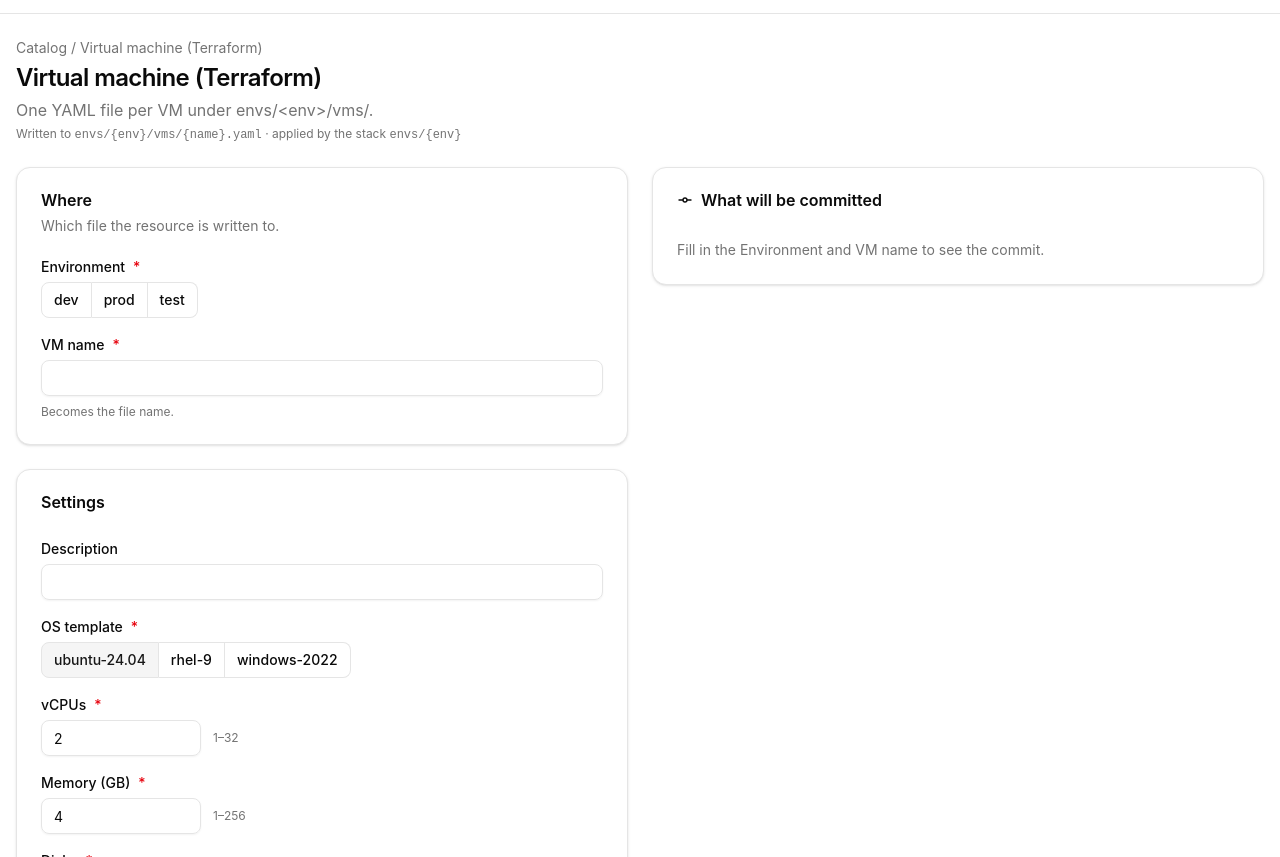
it: errors show on their fields: checked here as you type, and by the server's plan
The image size is (1280, 857).
Type "Bad_Name" into the field labelled "VM name *" at (322, 378), box 41,360 -> 603,396
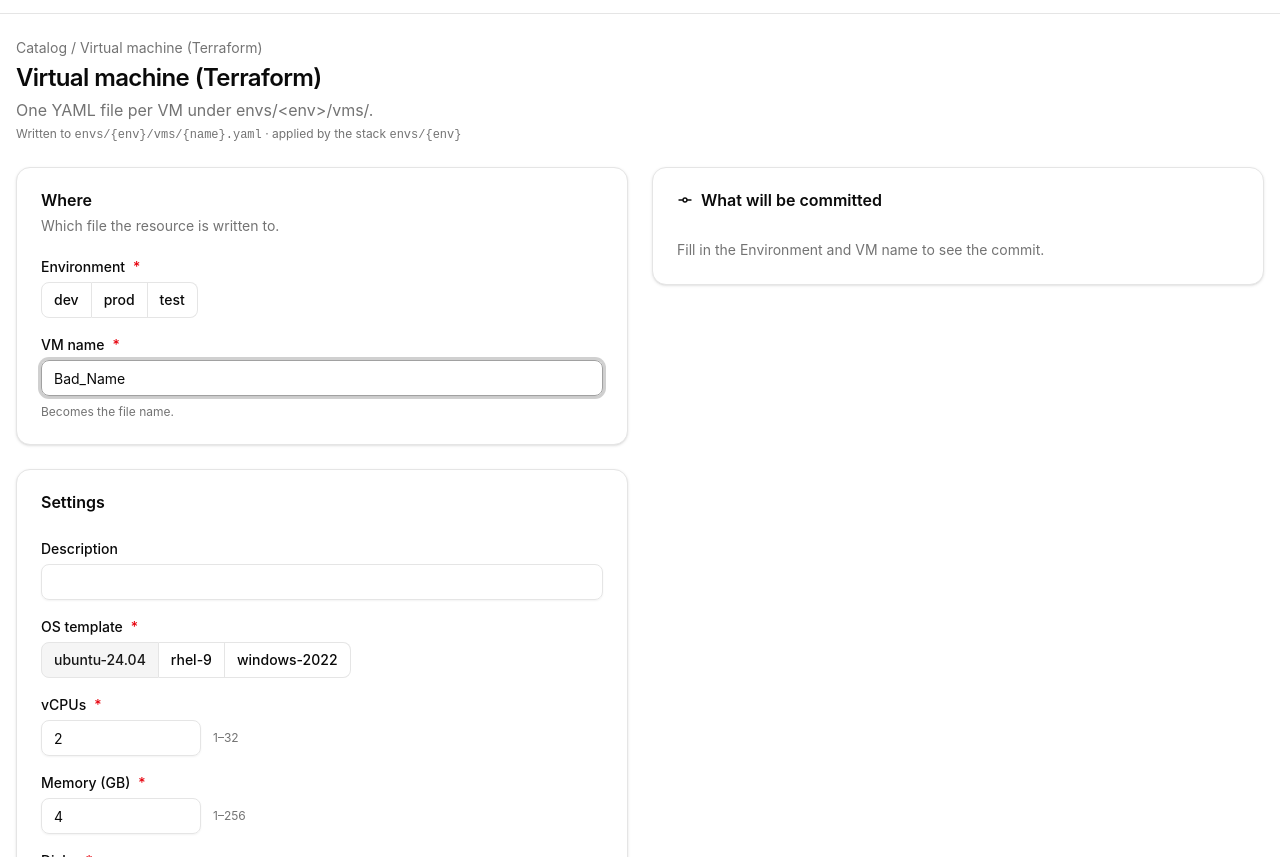
Press Tab
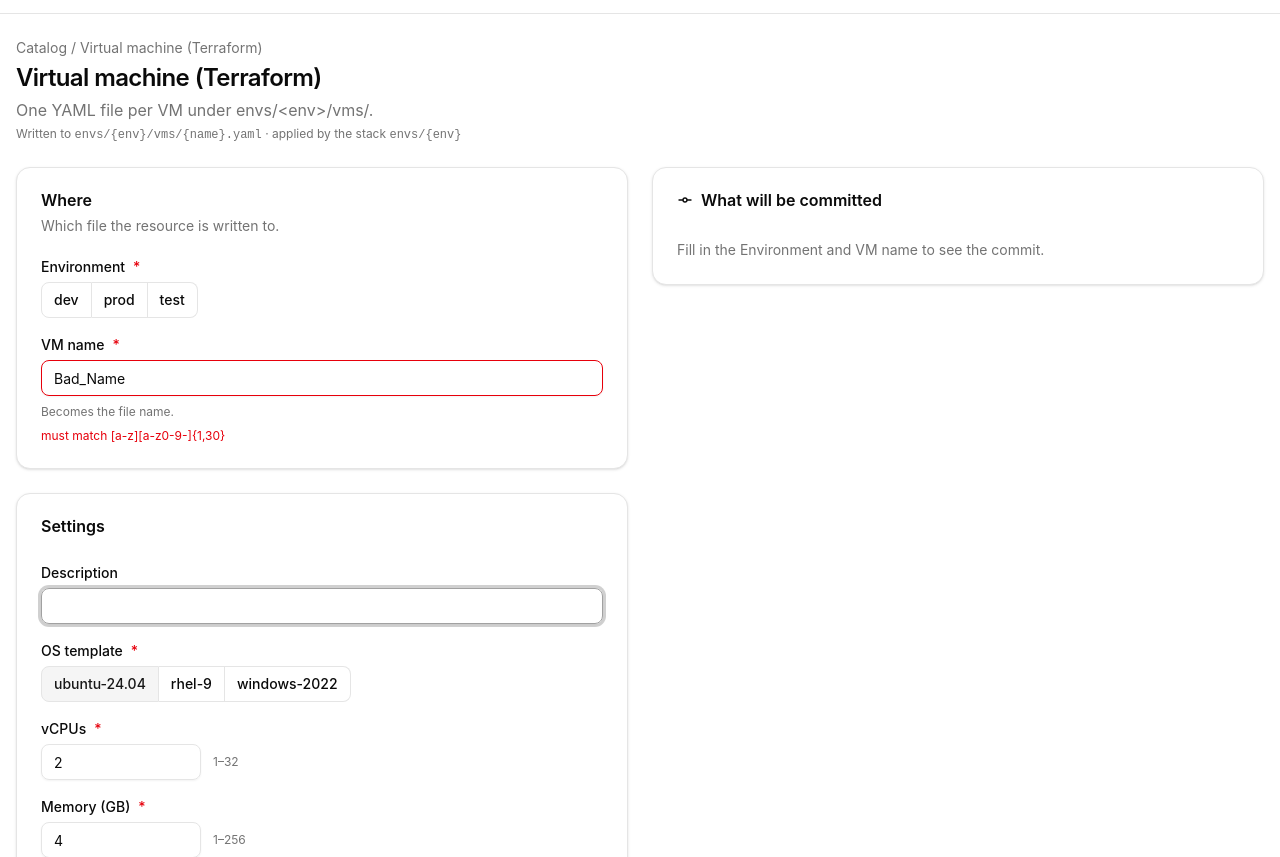
Expected: the text "must match [a-z][a-z0-9-]{1,30}" is shown, 41,428 -> 225,443
Replace the text in the field labelled "VM name *" with "web01" at (322, 378), box 41,360 -> 603,396
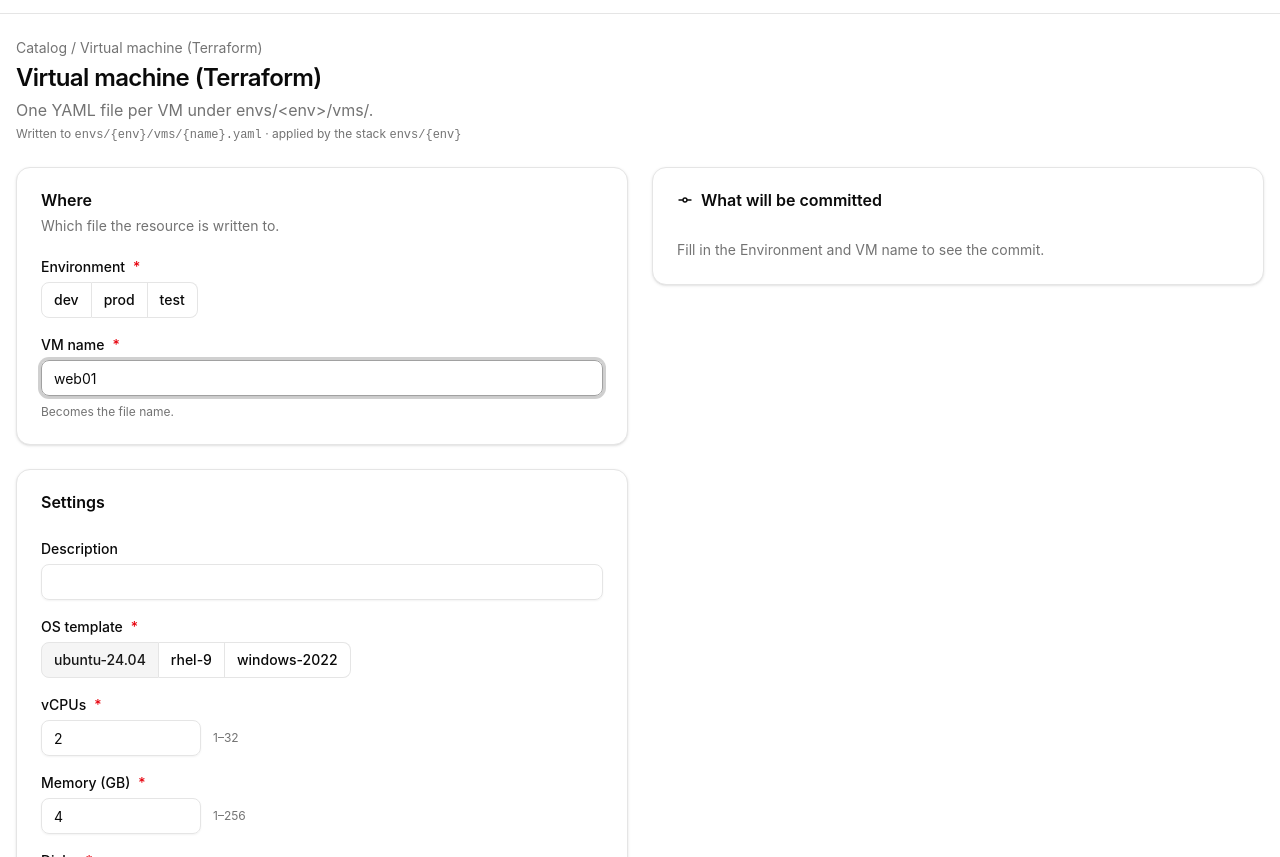
Click the radio button labelled "dev" at (66, 300), box 41,282 -> 92,318
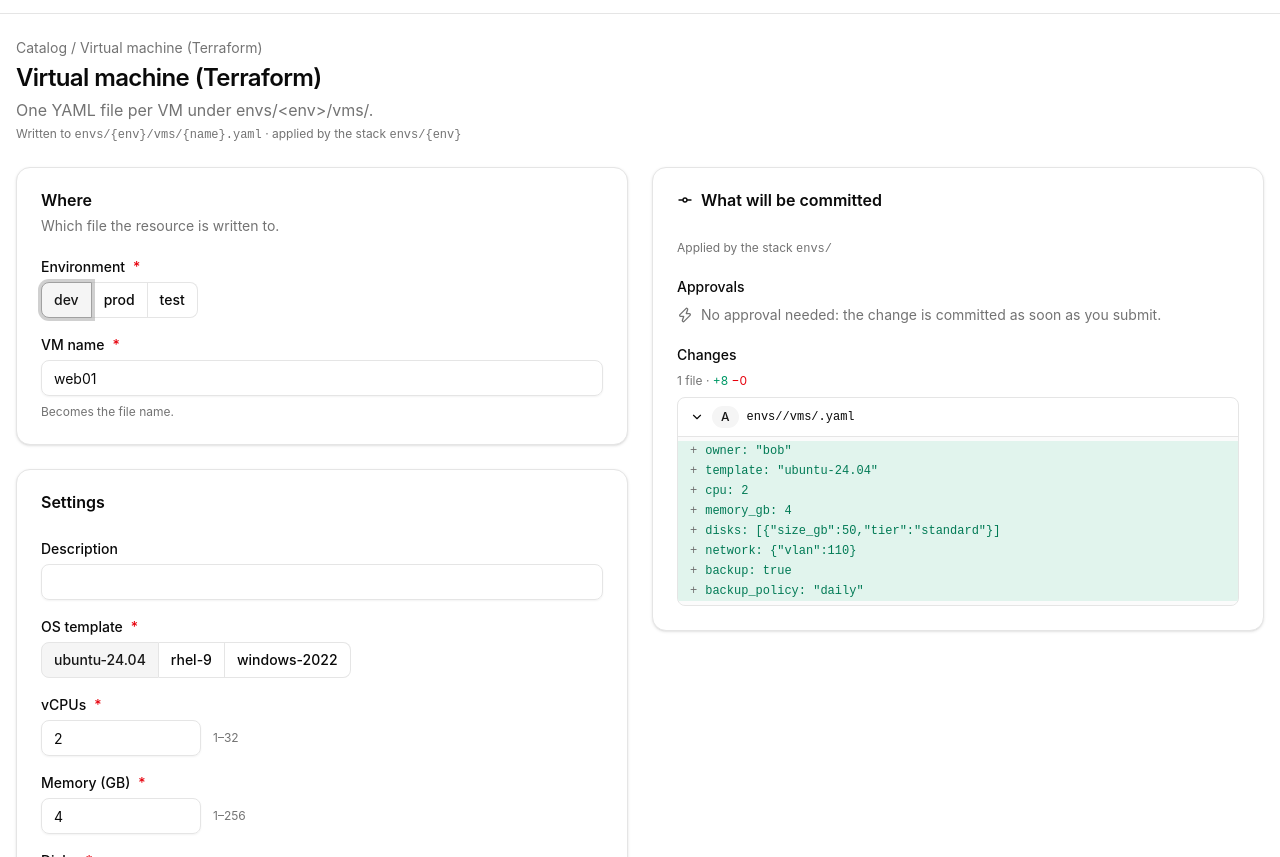
Replace the text in the number field labelled "vCPUs *" with "64" at (121, 738), box 41,720 -> 201,756
(page scrolled)
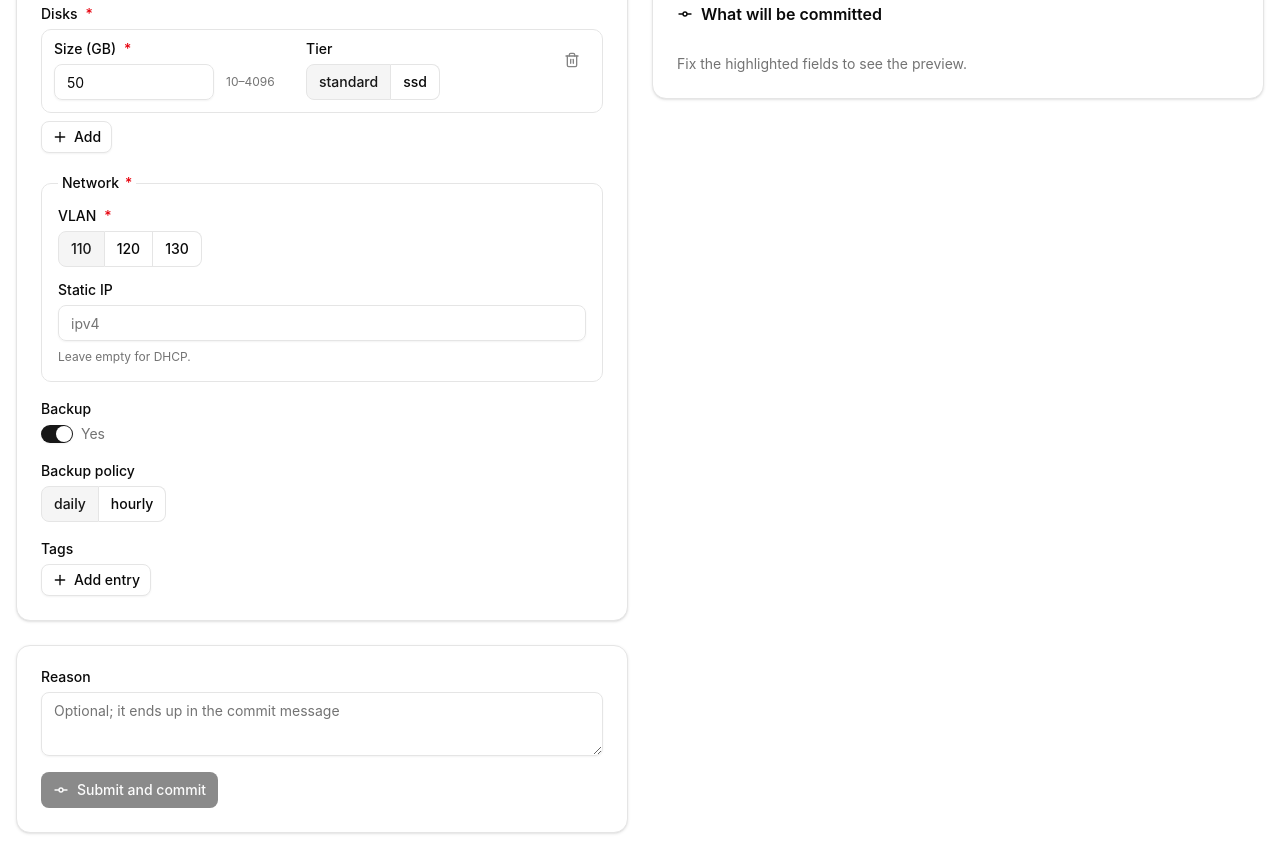
Expected: the text "Fix the highlighted fields to see the preview." is shown, 677,55 -> 967,72
Expected: the button "Submit and commit" is disabled, 41,772 -> 218,808
